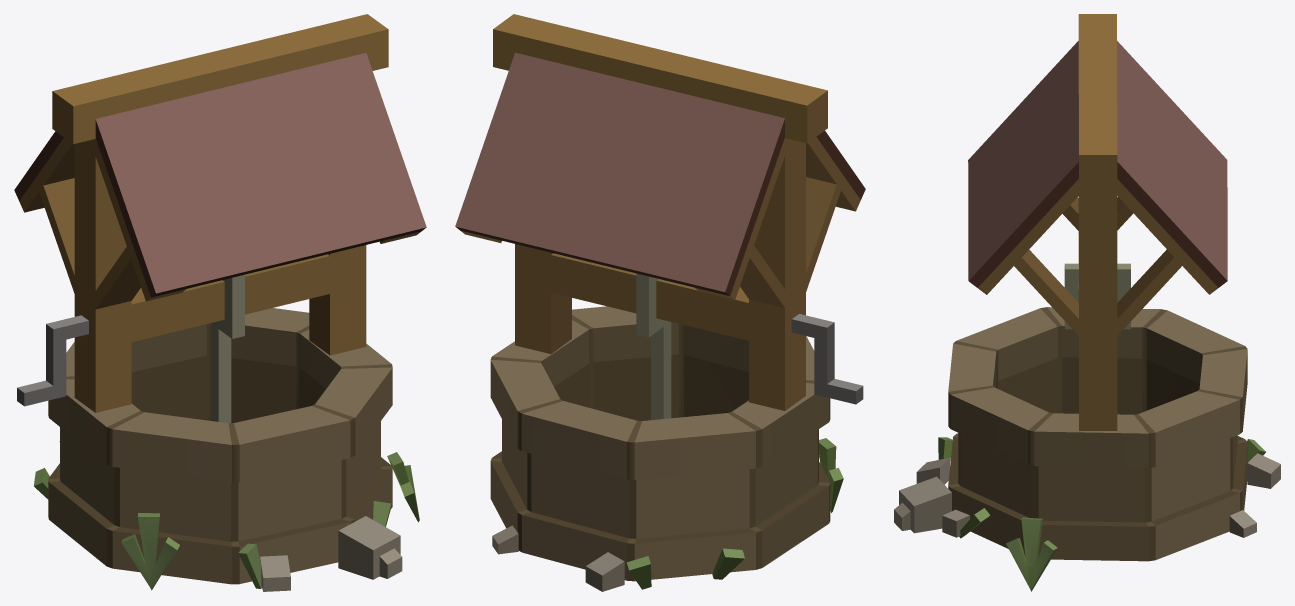
File: Well.gltf
3 views of the same model, side by side, from view 1: azimuth 30°, elevation 25°; view 2: azimuth 150°, elevation 25°; view 3: azimuth 270°, elevation 25° (orthographic). The views are drawn at different scales.
Parts seen in each view (by area): view 1: SF_Prop_Well_01; view 2: SF_Prop_Well_01; view 3: SF_Prop_Well_01.
Boxes of the visible parts, box(x1,y1,x2,y2) form: SF_Prop_Well_01: box(14, 14, 426, 591); SF_Prop_Well_01: box(455, 14, 865, 591); SF_Prop_Well_01: box(894, 14, 1280, 591).
Bounding box in the file's own units: 0.0333 × 0.0414 × 0.0333.
Materials: 1 (1 with a texture image).
